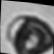correct: (1, 7, 54, 54)
